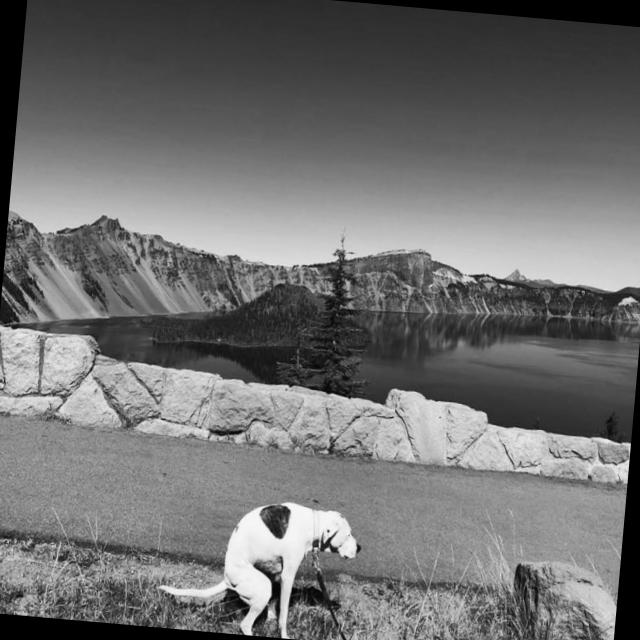squatting: (149, 460, 371, 640)
